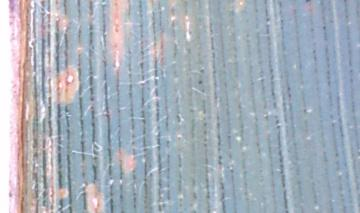tarspot: (112, 23, 119, 33), (196, 78, 204, 85), (198, 67, 205, 74), (303, 1, 312, 5), (113, 2, 118, 8)
